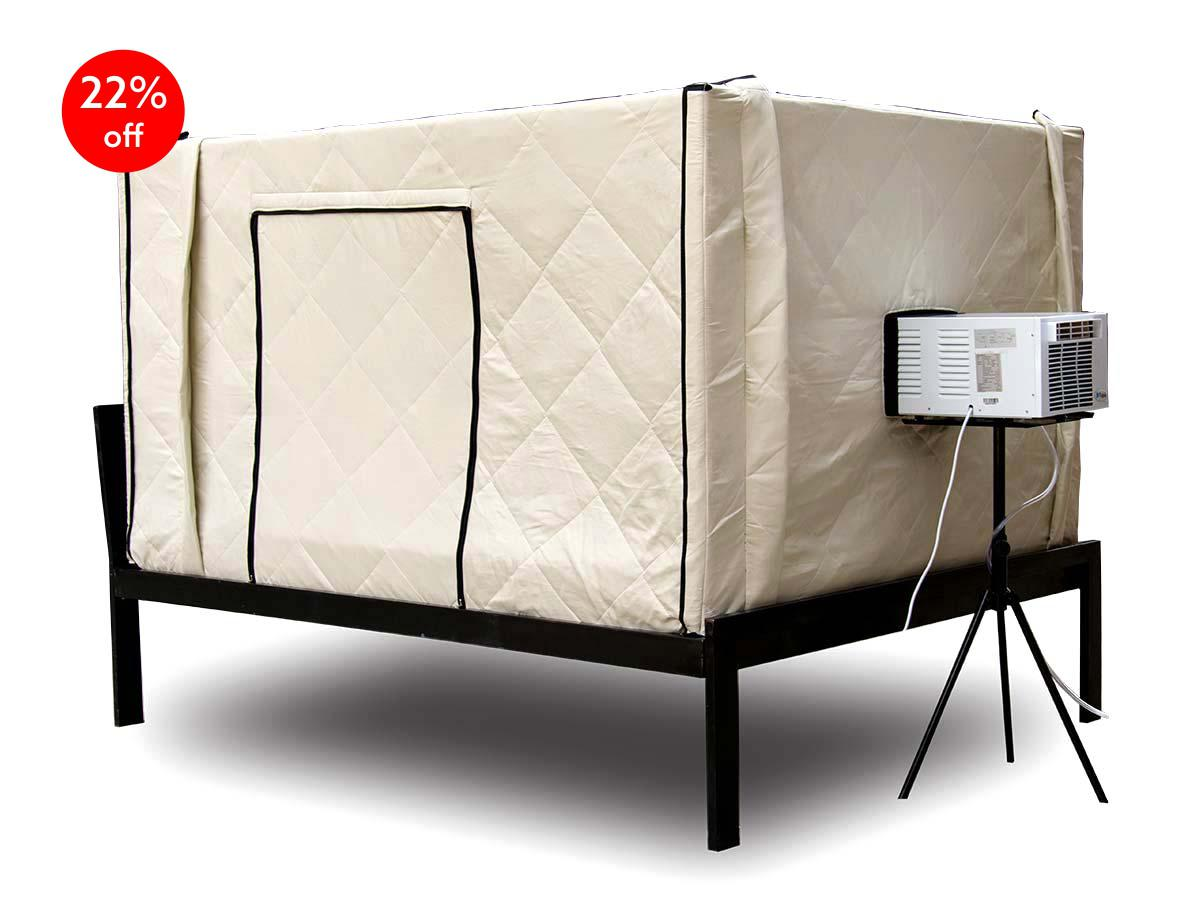bed: (64, 394, 1163, 856)
